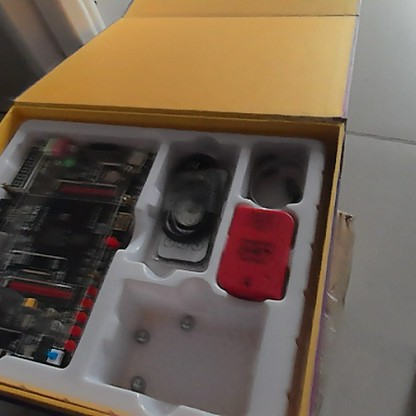ironball: (130, 323, 153, 348), (176, 311, 194, 333), (127, 372, 145, 393)
